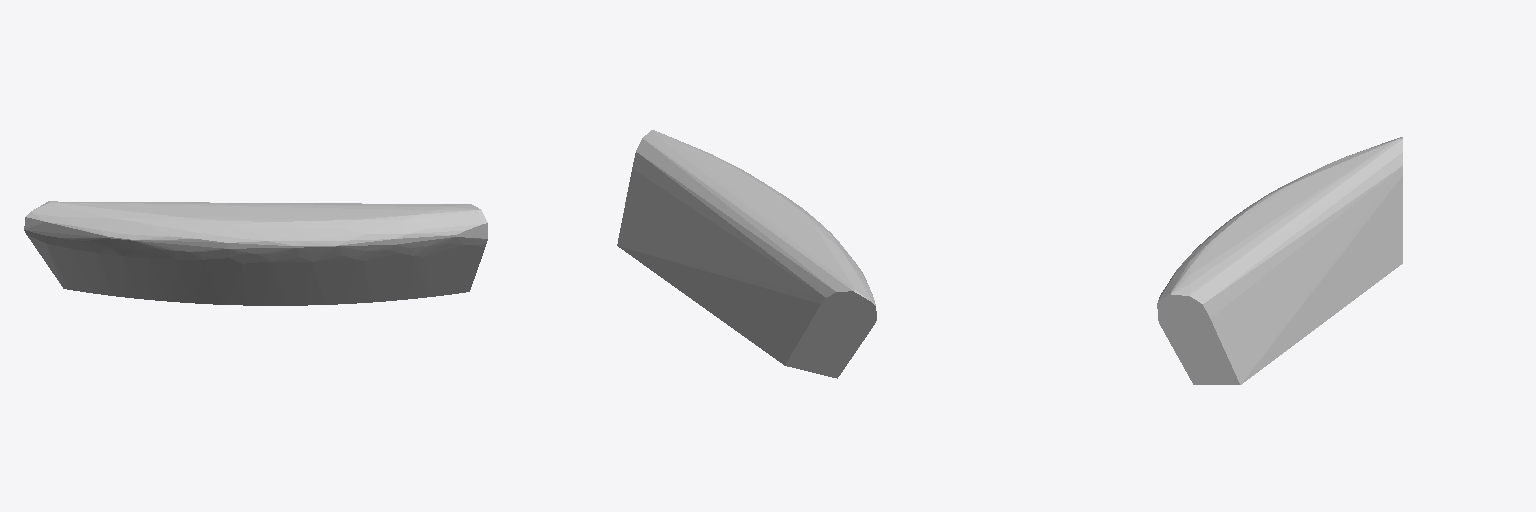
Rendered from skillet_collision_2.obj.
3 renders of one model, left to right at view 1: azimuth 30°, elevation 25°; view 2: azimuth 150°, elevation 25°; view 3: azimuth 270°, elevation 25°, orthographic.
Size of the model in its own units: 0.067 by 0.0172 by 0.0416.